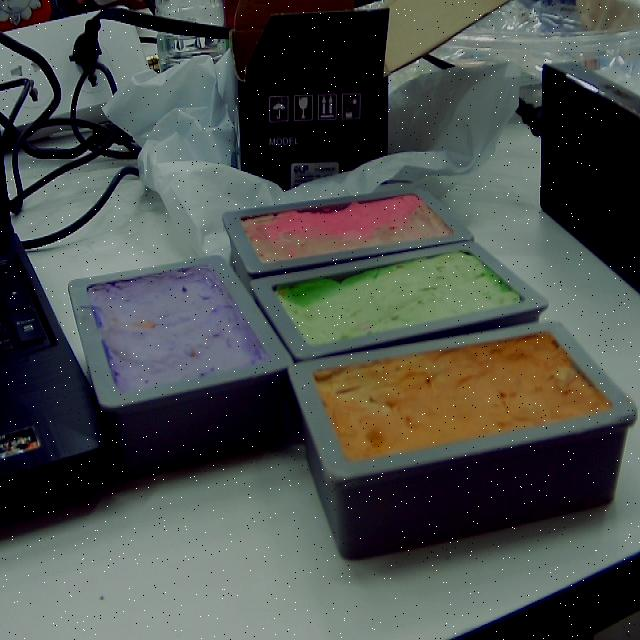block: (289, 317, 640, 558), (66, 255, 294, 480), (245, 240, 545, 365), (221, 187, 476, 281)
